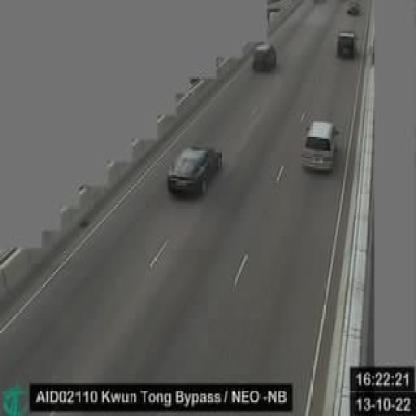Car: (168, 146, 220, 200), (301, 121, 339, 178), (251, 41, 277, 72), (337, 29, 357, 59), (349, 2, 360, 14)
